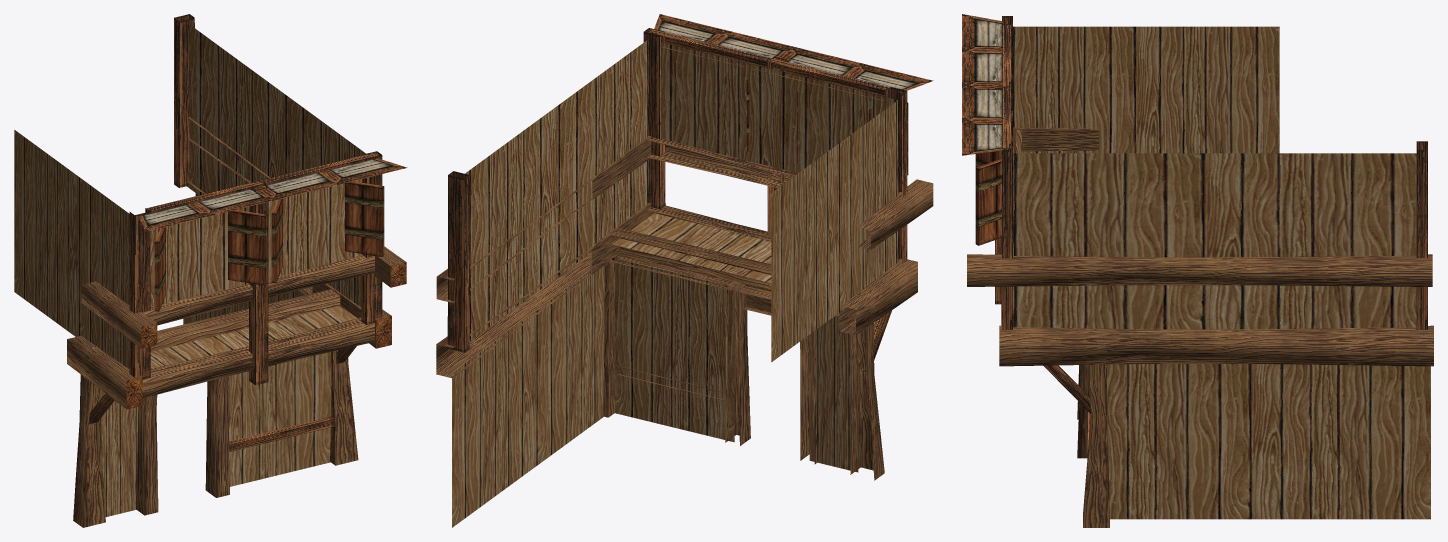
File: LAKETOWN_EXTERIOR_PS_LT_SMALLCORNER546__GX.obj
3 renders of one model, left to right at view 1: azimuth 30°, elevation 25°; view 2: azimuth 150°, elevation 25°; view 3: azimuth 270°, elevation 25°, orthographic. The views are drawn at different scales.
Visible parts, largest first — view 1: llCorner546__GX; view 2: llCorner546__GX; view 3: llCorner546__GX.
Part boxes in pixels (box(x1,y1,x2,y2)): llCorner546__GX: box(14, 14, 407, 527); llCorner546__GX: box(436, 14, 933, 527); llCorner546__GX: box(962, 14, 1433, 527).
Size of the model in its own units: 517 by 603 by 693.
